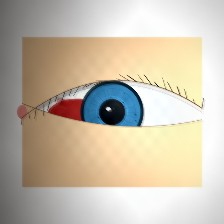hemorrhage_spot: (36, 81, 120, 148)
